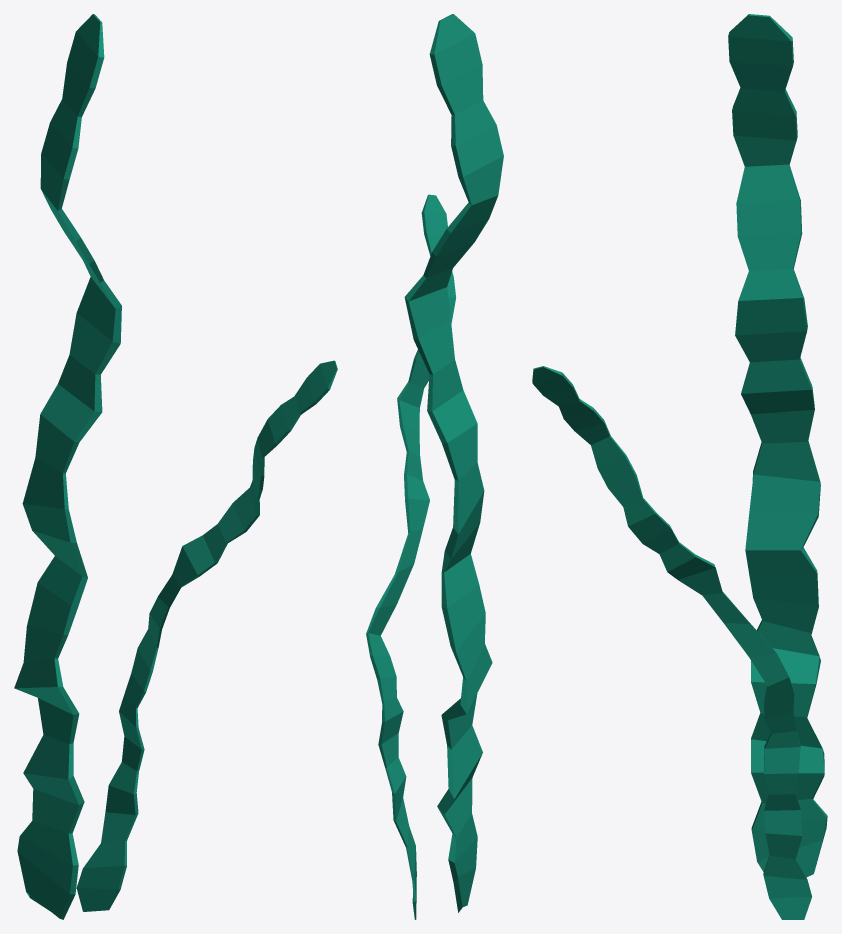
File: coral1anim.fbx
3 views of the same model, side by side, from view 1: azimuth 30°, elevation 25°; view 2: azimuth 150°, elevation 25°; view 3: azimuth 270°, elevation 25° (orthographic). The views are drawn at different scales.
Visible parts, largest first — view 1: Cube; view 2: Cube; view 3: Cube.
Part boxes in pixels (box(x1,y1,x2,y2)): Cube: box(14, 14, 337, 919); Cube: box(366, 14, 503, 919); Cube: box(532, 14, 827, 919).
Bounding box in the file's own units: 93.27 × 451 × 134.
